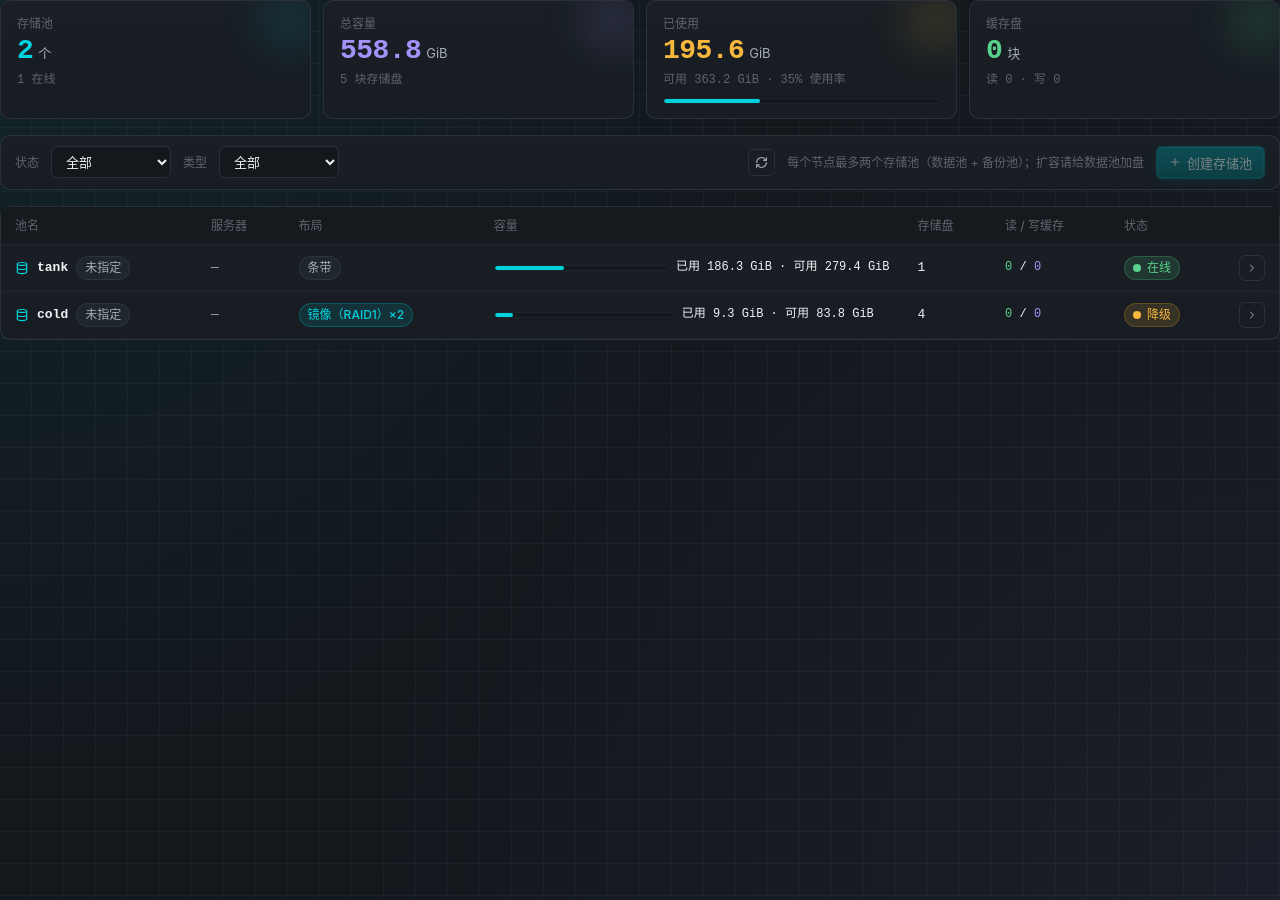
Scenario: 存储页 › 列表显示布局，详情按组展示成员
The width and height of the screenshot is (1280, 900).
Expected: the text "镜像（RAID1）×2" is shown, [299,304,413,327]
Expected: the text "条带" is shown, [299,256,341,280]
Click the text "cold". click: (53, 315)
box: [37,306,68,324]
(page scrolled)
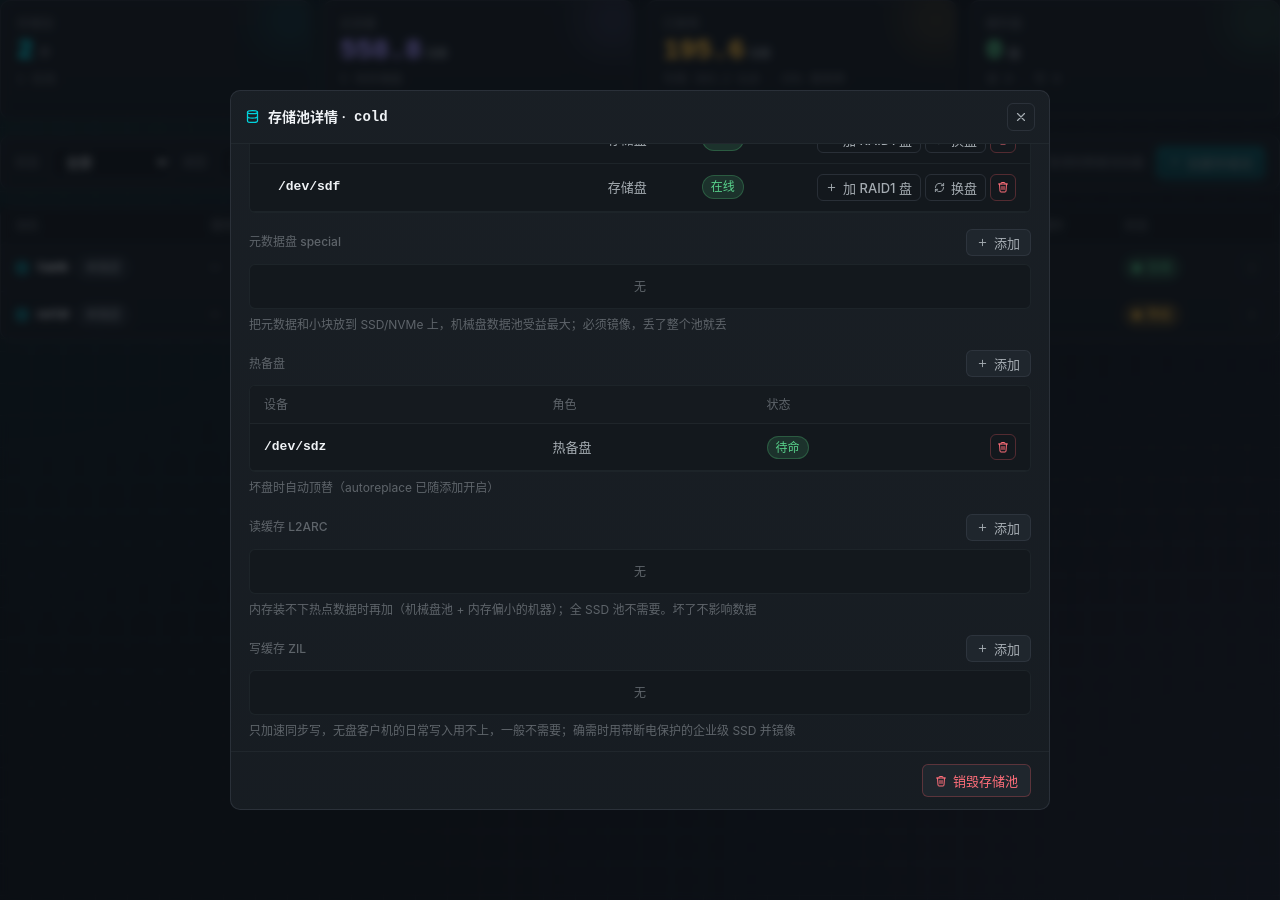
Expected: the text "热备盘" is shown, [249,355,285,372]
Expected: the text "/dev/sdz" shows "热备盘", [553,439,592,455]
